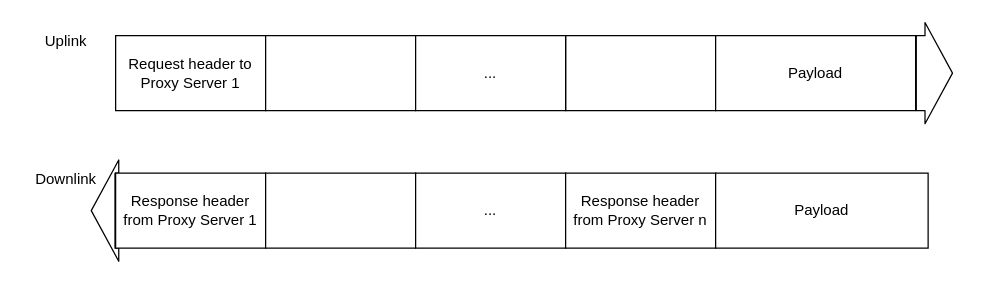
Image size: 990x283. Some labels were removed from this diagram. The shapes that lost their labels are listed below. From the top down, each one's centre as x and y in pixels, then its label:
the point at 340,72: Request header to Proxy Server 2
the point at 640,72: Request header to Proxy Server n
the point at 340,210: Response header from Proxy Server 2
